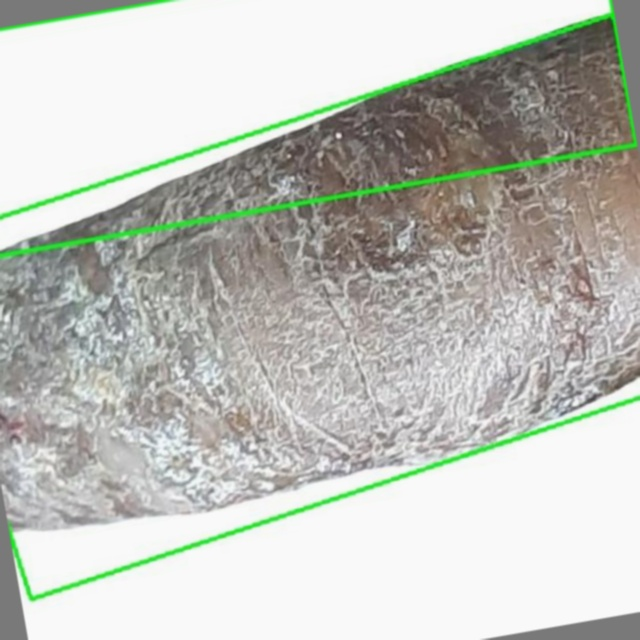Eczema: (0, 13, 639, 598), (0, 0, 636, 255)
